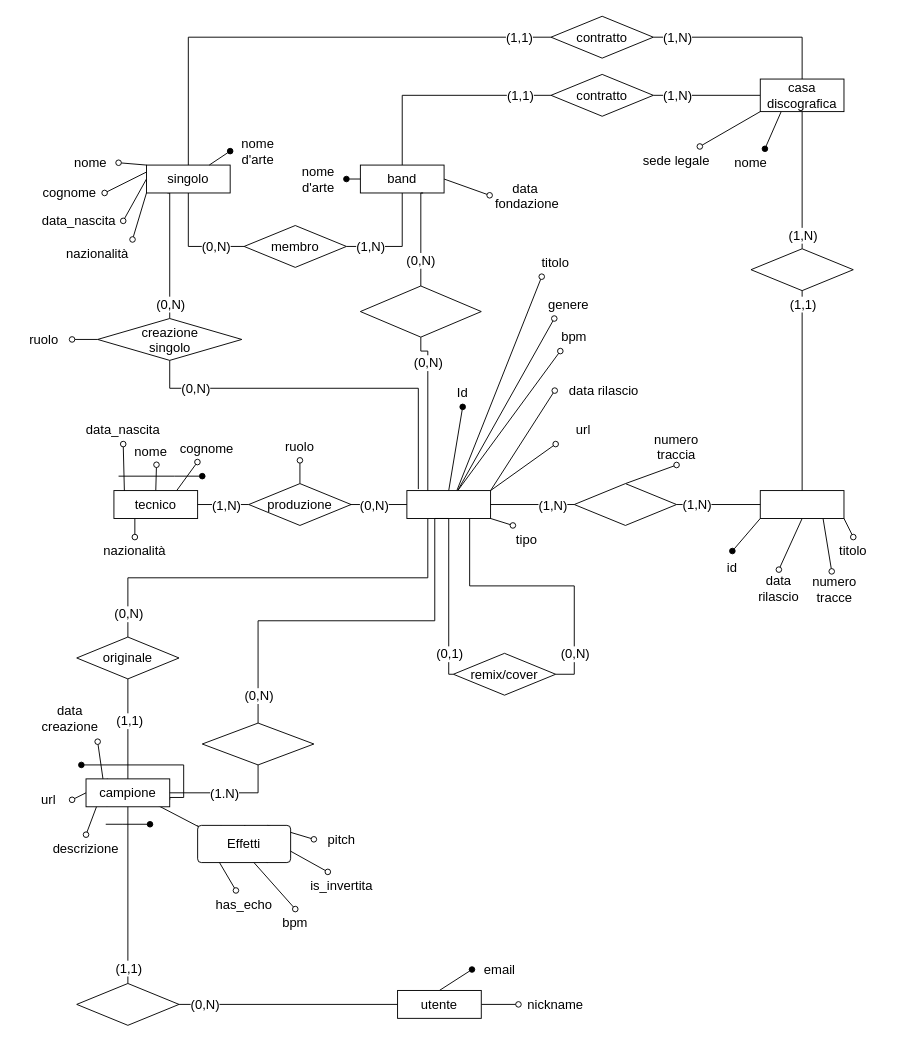
The diagram is 897 pixels wide and 1042 high, and some of its shapes have lost their labels. The shapes that lost their labels are listed below. From the top down, each one's centre as x and y in pixels, then its label:
the point at 801,269: distribuzione
the point at 420,311: creazione band
the point at 448,504: canzone
the point at 625,504: rilascio
the point at 801,504: album
the point at 257,743: nuova canzone
the point at 127,1004: upload
